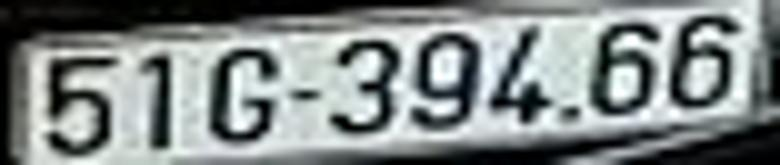-: (288, 84, 325, 107)
.: (559, 97, 586, 133)
1: (138, 52, 175, 152)
3: (331, 38, 401, 137)
4: (489, 27, 552, 128)
5: (44, 52, 116, 159)
6: (672, 14, 741, 112), (591, 18, 657, 118)
9: (415, 29, 479, 136)
G: (202, 47, 275, 146)
